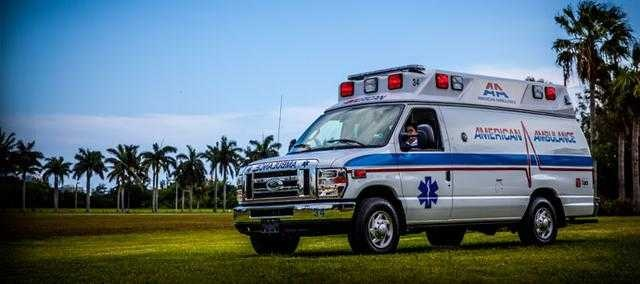Ambulance: (238, 57, 617, 265)
